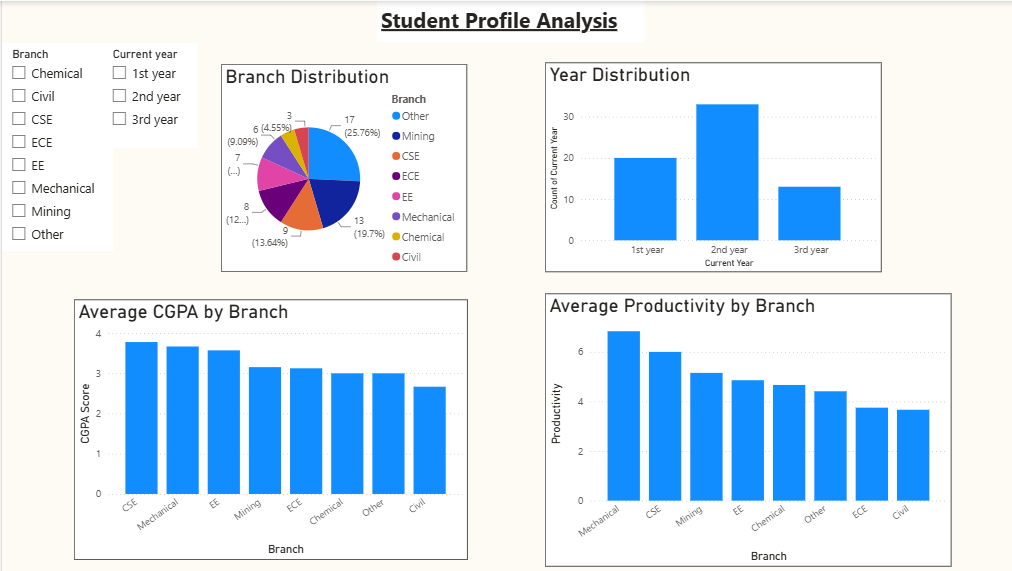

What the dashboard file says about the page in this screenshot:
{"tool":"powerbi","page":{"name":"STUDENT PROFILE ANALYSIS","canvas":[1280,720],"ordinal":4},"visuals":[{"type":"pieChart","title":"Branch Distribution","fields":{"Category":["Form_Responses.Q2. Branch"],"Y":["CountNonNull(Form_Responses.Q2. Branch)"]},"box":[276,80,310,262],"z":0},{"type":"textbox","box":[472,0,338,52],"z":1000},{"type":"slicer","fields":{"Values":["Form_Responses.Q2. Branch"]},"box":[0,52,140,262],"z":2000},{"type":"slicer","fields":{"Values":["Form_Responses.Q3. Current year"]},"box":[126,52,120,132],"z":3000},{"type":"clusteredColumnChart","title":"Year Distribution","fields":{"Category":["Form_Responses.Q3. Current year"],"Y":["CountNonNull(Form_Responses.Q3. Current year)"]},"box":[684,78,424,264],"z":4000},{"type":"clusteredColumnChart","title":"Average CGPA by Branch","fields":{"Category":["Form_Responses.Q2. Branch"],"Y":["Avg(Form_Responses.CGPA Score)"]},"box":[90,376,496,328],"z":5000},{"type":"clusteredColumnChart","title":"Average Productivity by Branch","fields":{"Category":["Form_Responses.Q2. Branch"],"Y":["Avg(Form_Responses.Q18. How productive do you consider yourself)"]},"box":[684,368,512,344],"z":6000}]}

Visuals, with their boxes in screenshot pixels (x1, y1, x2, y2), scaled from the page's 1280x720 canvas onto the 1012x571 screenshot:
"Branch Distribution" pieChart: {"x1": 218, "y1": 63, "x2": 463, "y2": 271}
textbox: {"x1": 373, "y1": 0, "x2": 640, "y2": 41}
slicer - Form_Responses.Q2. Branch: {"x1": 0, "y1": 41, "x2": 111, "y2": 249}
slicer - Form_Responses.Q3. Current year: {"x1": 100, "y1": 41, "x2": 194, "y2": 146}
"Year Distribution" clusteredColumnChart: {"x1": 541, "y1": 62, "x2": 876, "y2": 271}
"Average CGPA by Branch" clusteredColumnChart: {"x1": 71, "y1": 298, "x2": 463, "y2": 558}
"Average Productivity by Branch" clusteredColumnChart: {"x1": 541, "y1": 292, "x2": 946, "y2": 565}
